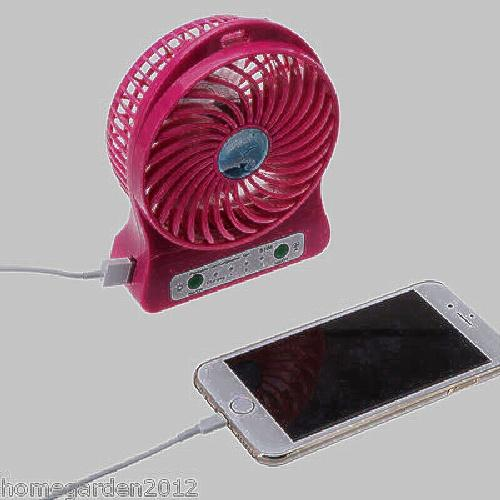fan: (103, 20, 338, 305)
